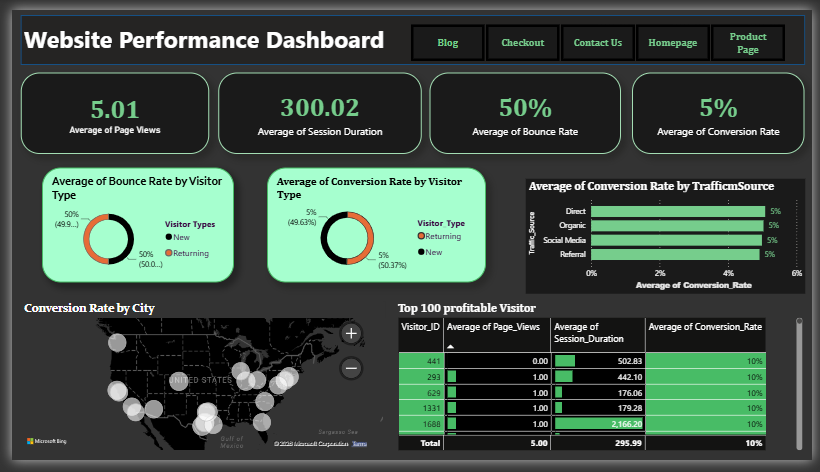

What the dashboard file says about the page in this screenshot:
{"tool":"powerbi","page":{"name":"Page 1","canvas":[1280,720],"ordinal":0},"visuals":[{"type":"shape","box":[13.8,8.8,1255,80],"z":0},{"type":"textbox","box":[14.3,15.7,710,72.9],"z":1000},{"type":"slicer","fields":{"Values":["website data.Exit_Pages"]},"box":[611.2,16.2,648.8,72.5],"z":2000},{"type":"card","fields":{"Values":["Avg(website data.Page_Views)"]},"box":[13.8,100,301.2,130],"z":3000},{"type":"card","fields":{"Values":["Avg(website data.Session_Duration)"]},"box":[330,100,325.7,130],"z":4000},{"type":"card","fields":{"Values":["Avg(website data.Bounce_Rate)"]},"box":[667.5,100,306.2,130],"z":5000},{"type":"card","fields":{"Values":["Avg(website data.Conversion_Rate)"]},"box":[992.5,100,276.2,130],"z":6000},{"type":"donutChart","title":"Average of Bounce Rate by Visitor Type","fields":{"Category":["website data.Visitor_Type"],"Y":["Avg(website data.Bounce_Rate)"]},"box":[48.6,252.9,307.1,184.3],"z":7000},{"type":"donutChart","title":"Average of Conversion Rate by Visitor Type","fields":{"Category":["website data.Visitor_Type"],"Y":["Avg(website data.Conversion_Rate)"]},"box":[408.6,252.9,350,184.3],"z":8000},{"type":"barChart","title":"Average of Conversion Rate by TrafficmSource","fields":{"Category":["website data.Traffic_Source"],"Y":["Avg(website data.Conversion_Rate)"]},"box":[821.2,270,447.5,183.8],"z":9000},{"type":"tableEx","title":"Top 100 profitable Visitor","fields":{"Values":["website data.Visitor_ID","Avg(website data.Page_Views)","Avg(website data.Session_Duration)","Avg(website data.Conversion_Rate)"]},"box":[611.2,465,657.5,243.8],"z":10000},{"type":"map","title":" Conversion Rate by City","fields":{"Category":["website data.City"],"Size":["Sum(website data.Conversion_Rate)"]},"box":[13.8,465,583.8,243.8],"z":11000}]}

Visuals, with their boxes in screenshot pixels (x1, y1, x2, y2), scaled from the page's 1280x720 canvas onto the 820x472 screenshot:
shape: bbox=[9, 6, 813, 58]
textbox: bbox=[9, 10, 464, 58]
slicer - website data.Exit_Pages: bbox=[392, 11, 807, 58]
card - Avg(website data.Page_Views): bbox=[9, 66, 202, 151]
card - Avg(website data.Session_Duration): bbox=[211, 66, 420, 151]
card - Avg(website data.Bounce_Rate): bbox=[428, 66, 624, 151]
card - Avg(website data.Conversion_Rate): bbox=[636, 66, 813, 151]
"Average of Bounce Rate by Visitor Type" donutChart: bbox=[31, 166, 228, 287]
"Average of Conversion Rate by Visitor Type" donutChart: bbox=[262, 166, 486, 287]
"Average of Conversion Rate by TrafficmSource" barChart: bbox=[526, 177, 813, 297]
"Top 100 profitable Visitor" tableEx: bbox=[392, 305, 813, 465]
" Conversion Rate by City" map: bbox=[9, 305, 383, 465]
